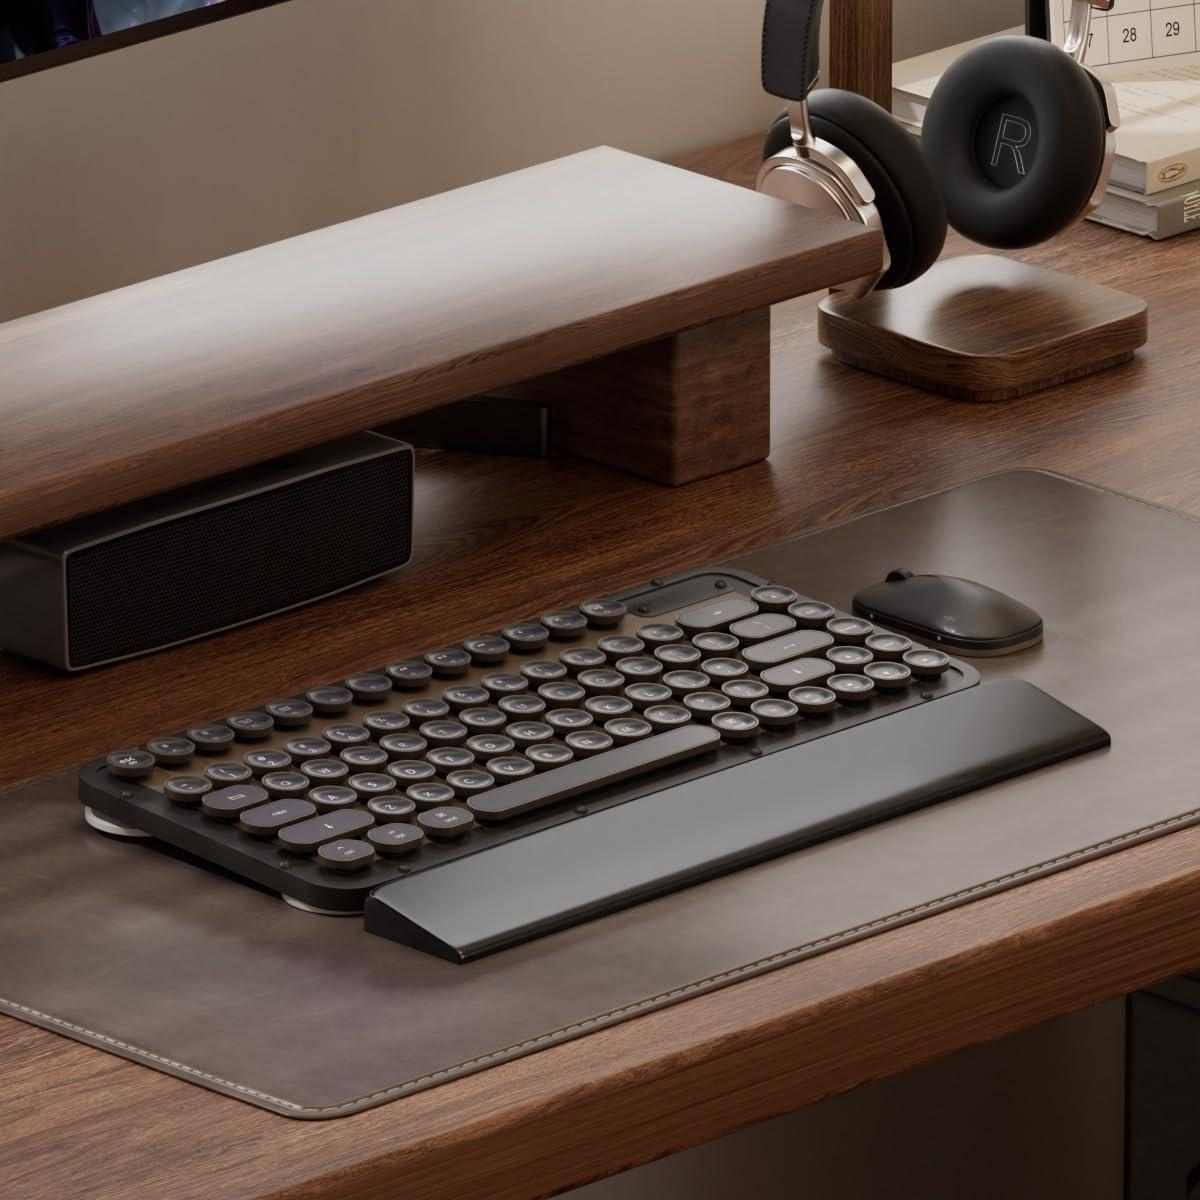keyboard: (77, 562, 1110, 963)
